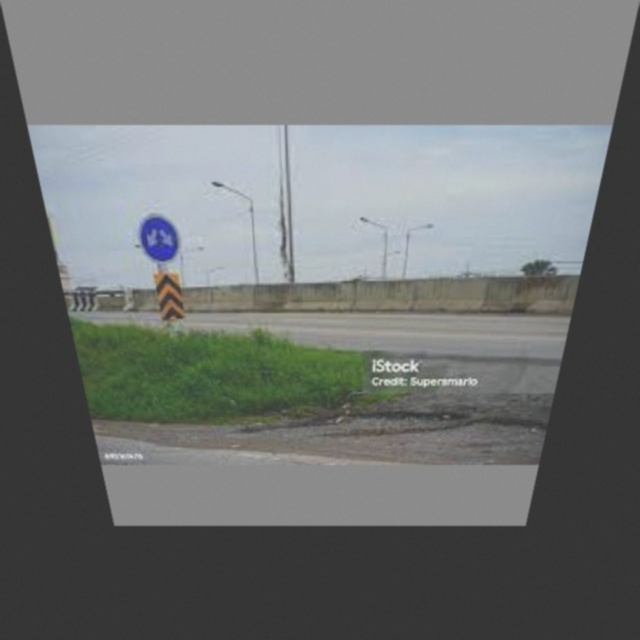Pass_Either_Side: (137, 213, 184, 262)
